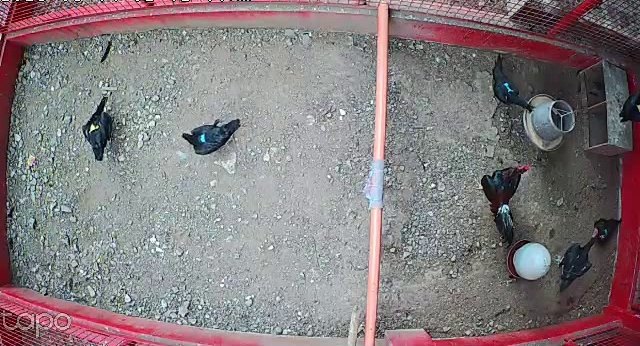Chicken: (551, 224, 602, 291), (80, 94, 121, 163), (181, 114, 243, 159), (488, 54, 532, 113), (590, 211, 623, 248), (618, 86, 640, 128)
Rooster: (472, 156, 531, 245)
Saddle_Color_Blue: (201, 133, 206, 143)
Saddle_Color_Yellow: (86, 121, 102, 133)
